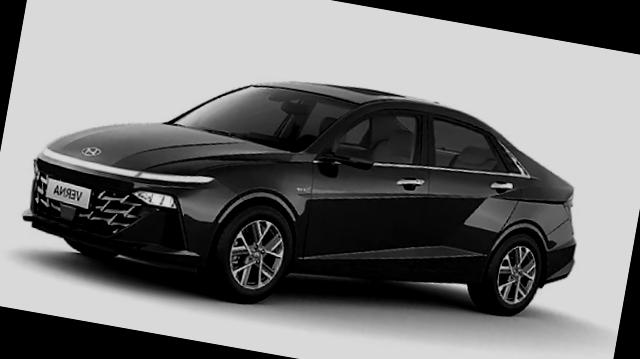sedan: (1, 21, 613, 359)
